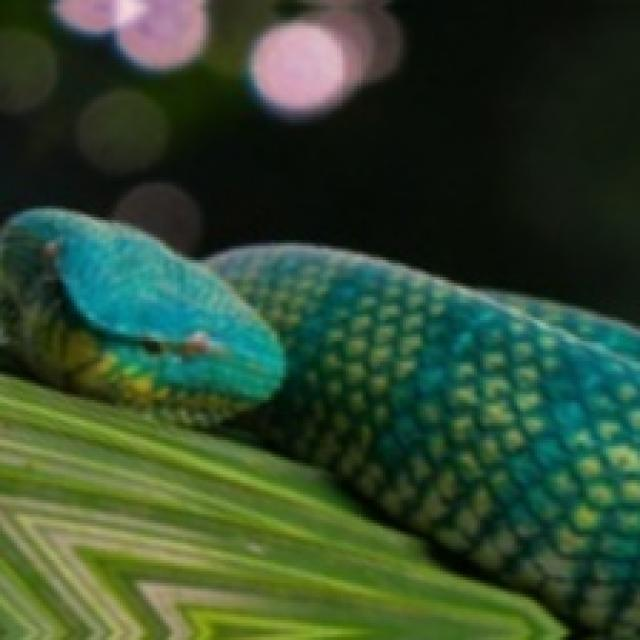north ph temple pitviper: (0, 209, 637, 637)
